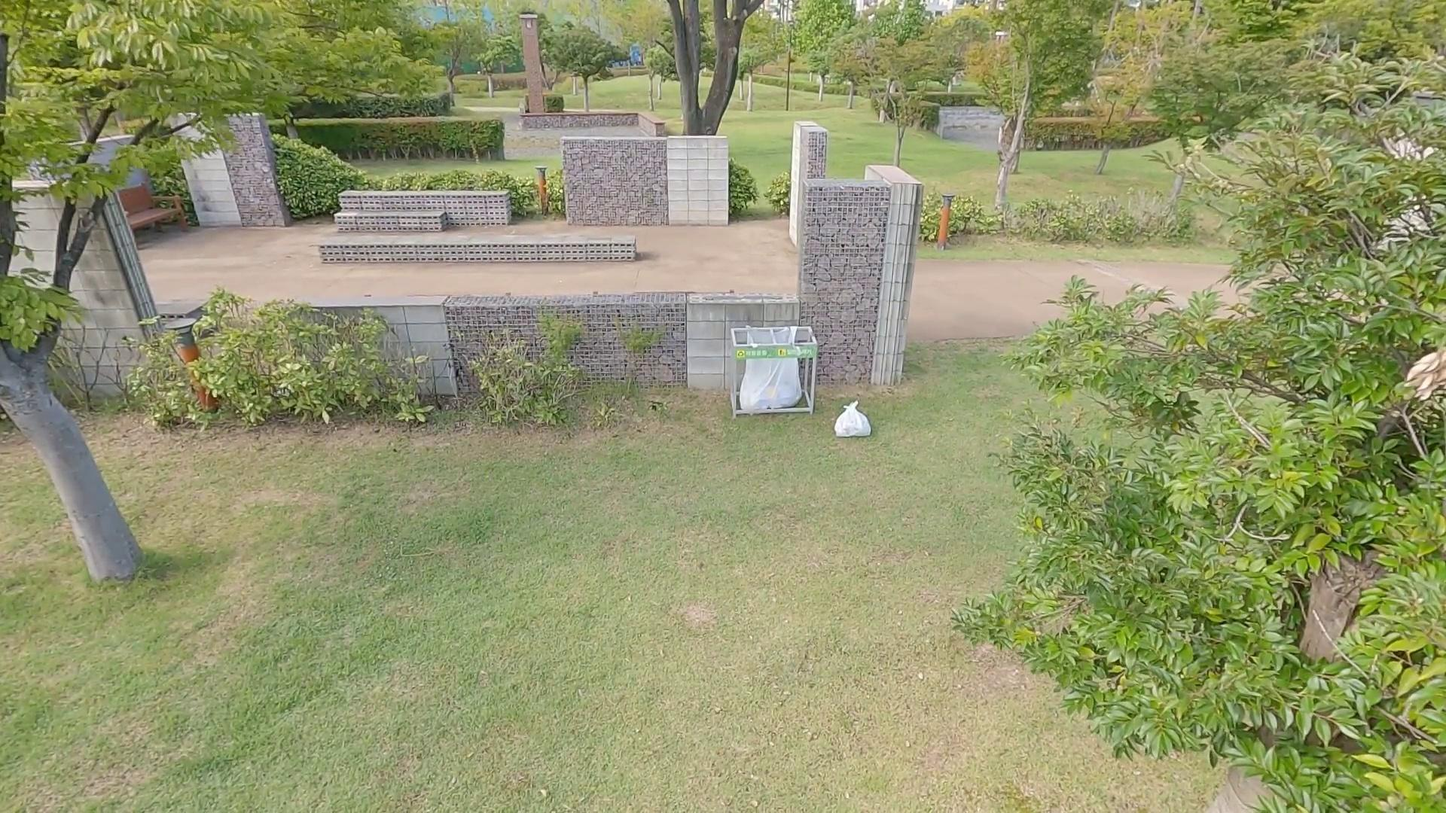trash: (834, 397, 877, 446)
